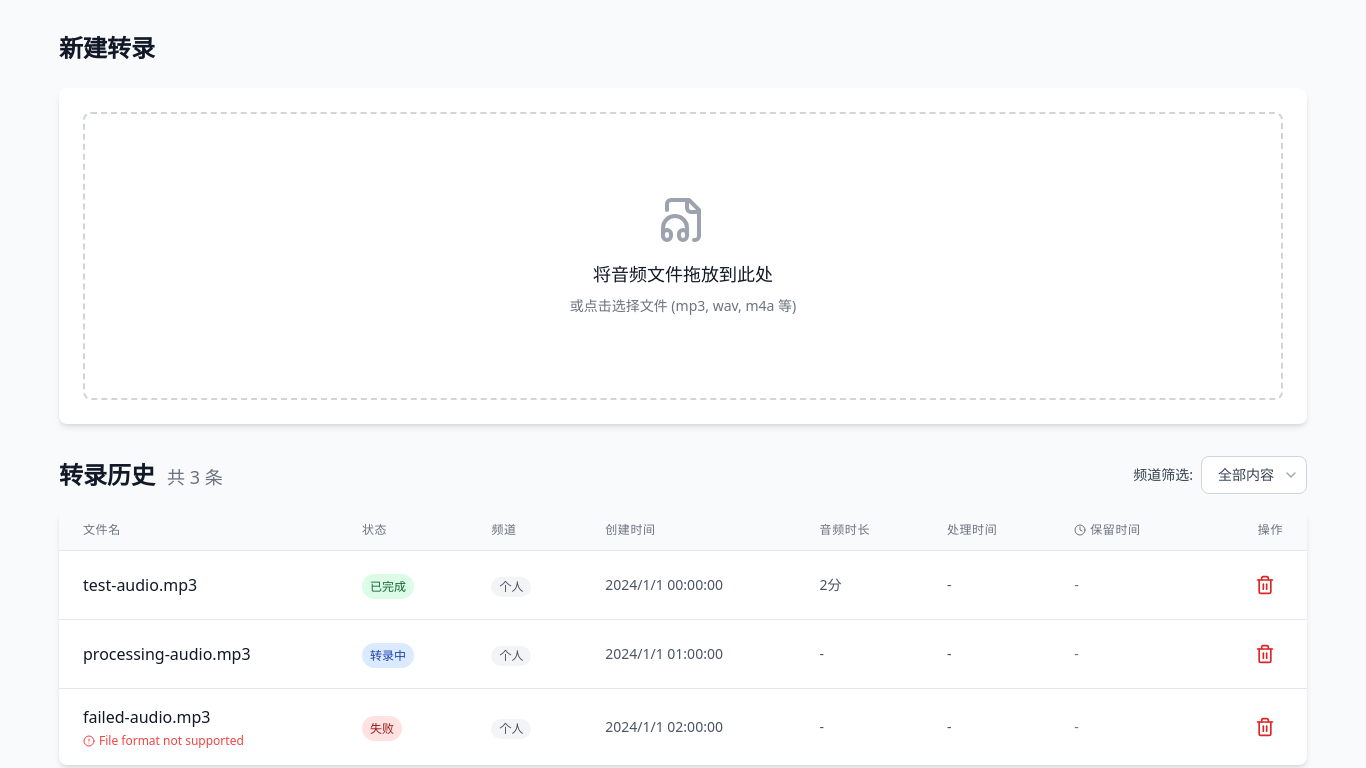
Test: TranscriptionList › Delete Functionality › キャンセル時、deleteTranscriptionは呼ばれない
The width and height of the screenshot is (1366, 768).
Check: the text "failed-audio.mp3" is shown, box [83, 706, 210, 728]
Click the button titled "删除" in the row of "failed-audio.mp3" at point(1265, 727), box [1247, 709, 1283, 745]
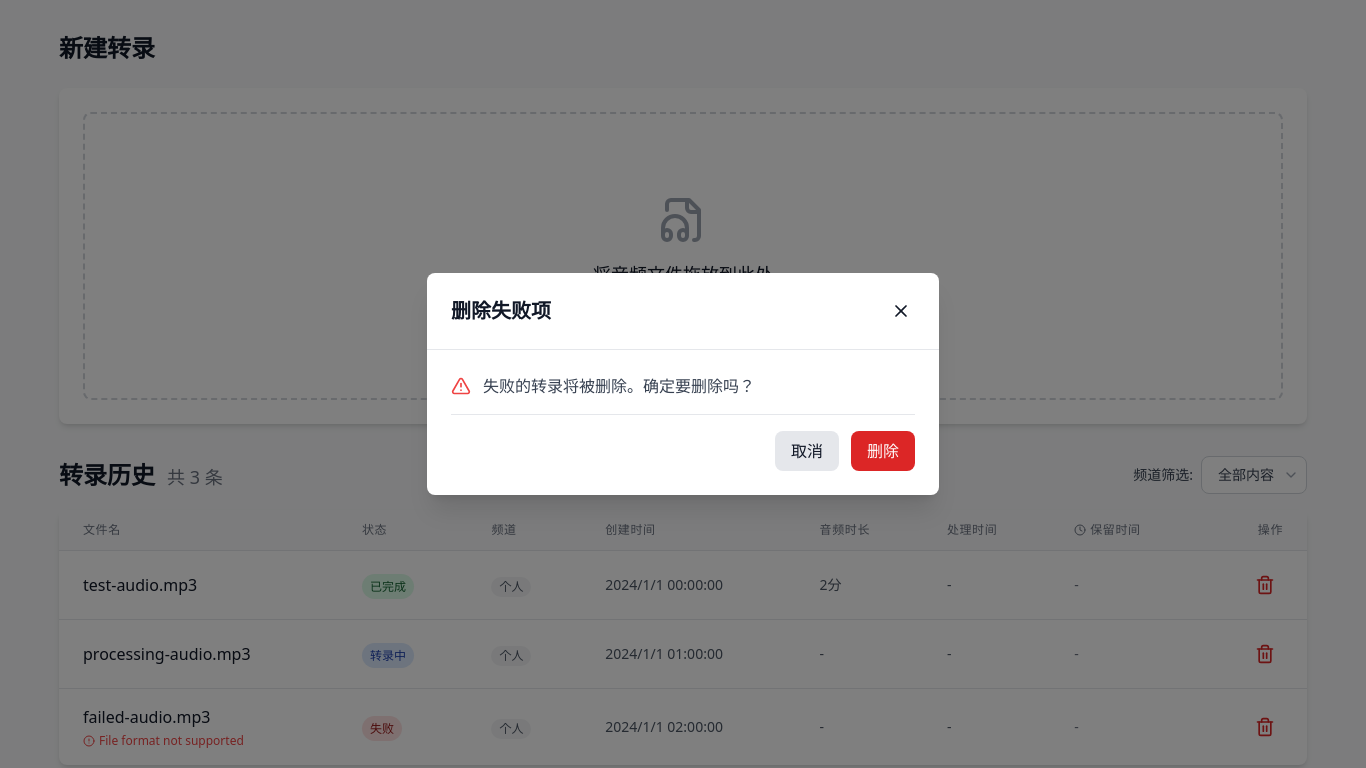
Note: Click cancel button using fireEvent
Click the button "取消" at point(807, 451), box [775, 431, 839, 471]
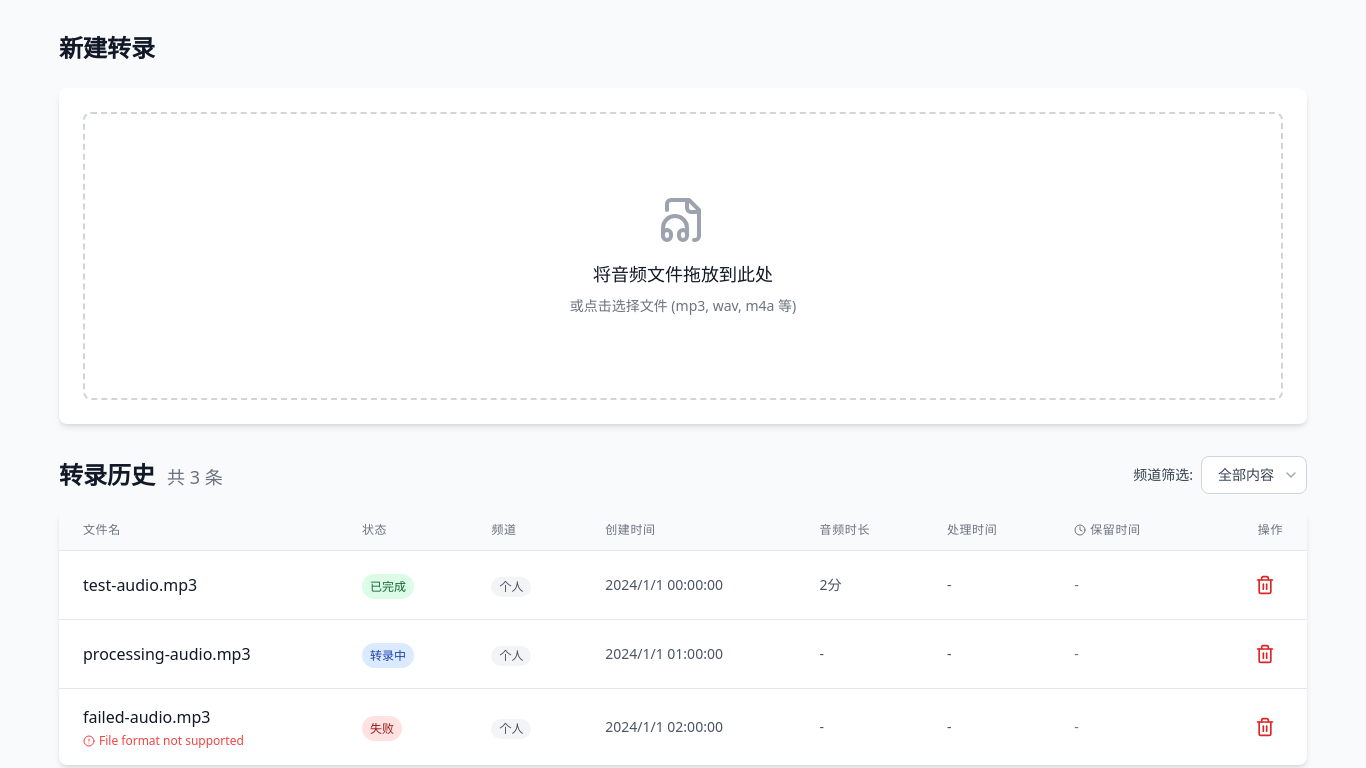
Check: the heading "删除失败项" is gone
